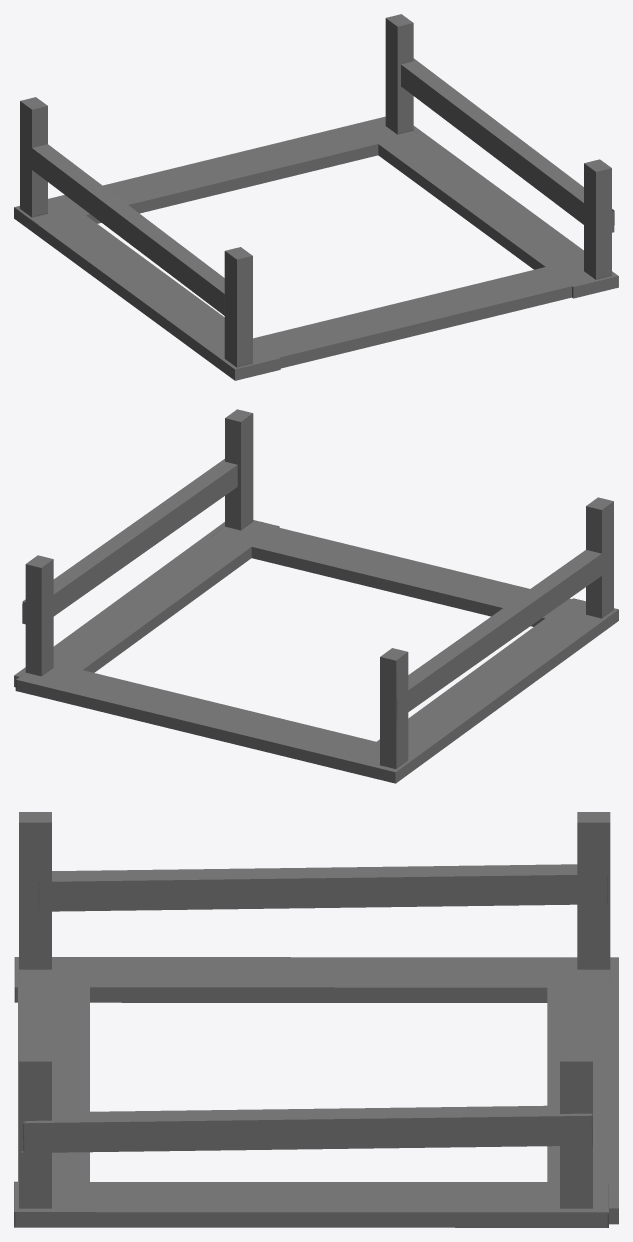
File: Frame.fbx
3 views of the same model, one above another, from view 1: azimuth 30°, elevation 25°; view 2: azimuth 150°, elevation 25°; view 3: azimuth 270°, elevation 25° (orthographic). The views are drawn at different scales.
Parts seen in each view (by area): view 1: pCube14; view 2: pCube14; view 3: pCube14.
Boxes of the visible parts, x1,y1,x2,y2 form: pCube14: (14,14,618,380); pCube14: (14,409,618,783); pCube14: (14,812,618,1227).
Bounding box in the file's own units: 7.94 × 2.36 × 7.94.
Materials: 1 (1 with a texture image).
